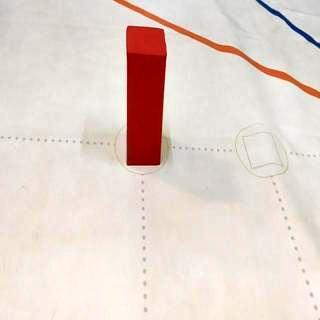redbox: (127, 27, 166, 166)
